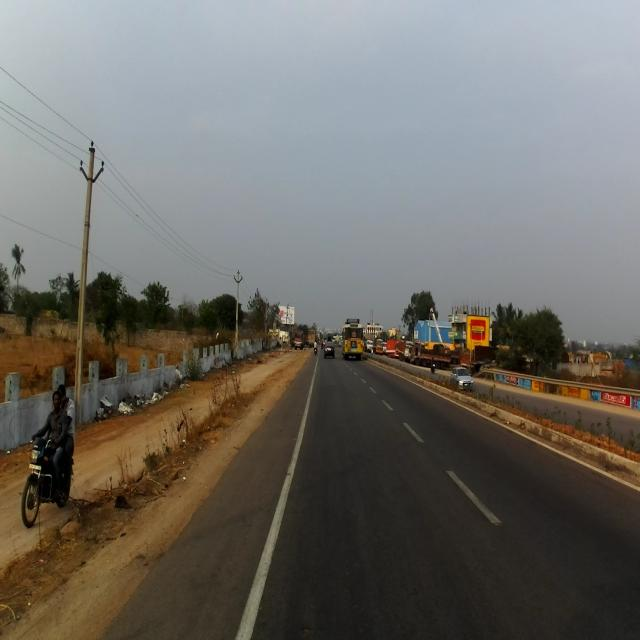bus: (341, 321, 364, 359)
motorcycle: (21, 431, 74, 528)
